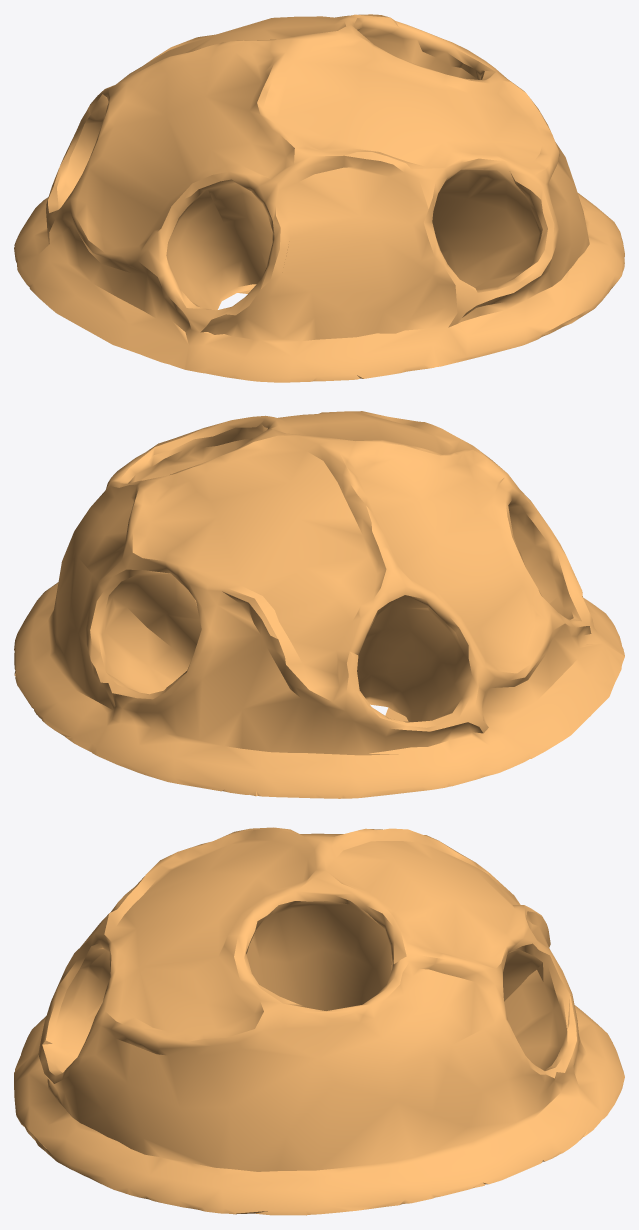
Rendered from SM_nest.fbx.
3 renders of one model, top to bottom at view 1: azimuth 30°, elevation 25°; view 2: azimuth 150°, elevation 25°; view 3: azimuth 270°, elevation 25°, orthographic. The views are drawn at different scales.
Parts seen in each view (by area): view 1: Icosphere.005; view 2: Icosphere.005; view 3: Icosphere.005.
Part boxes in pixels (left/top/right/bottom): Icosphere.005: left=14, top=14, right=624, bottom=382; Icosphere.005: left=14, top=411, right=624, bottom=798; Icosphere.005: left=14, top=827, right=624, bottom=1215.
Size of the model in its own units: 908 by 374 by 895.
